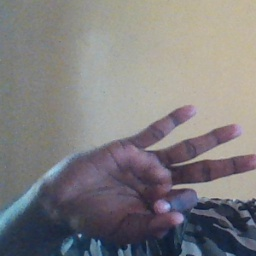K: (42, 104, 256, 235)
